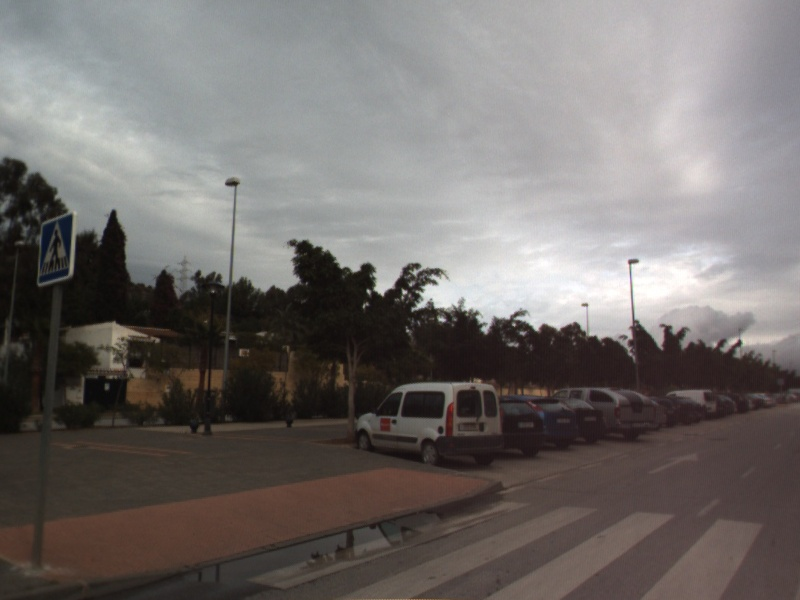STRAIGHT: (645, 450, 701, 476)
